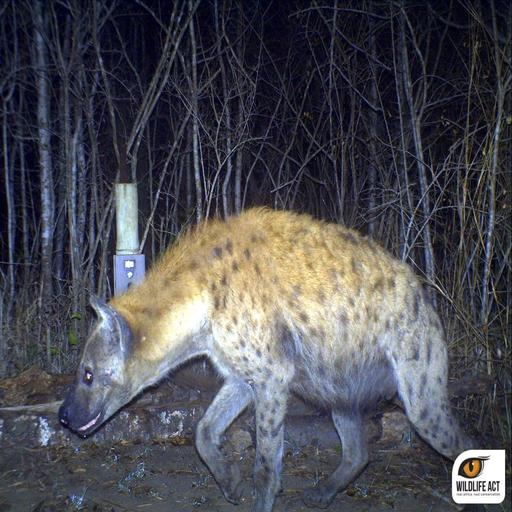Hyena: (59, 203, 479, 499)
